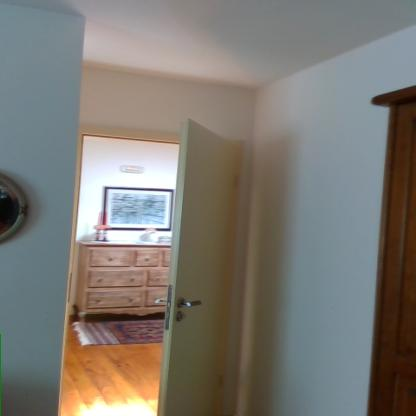semi: (65, 114, 260, 415)
